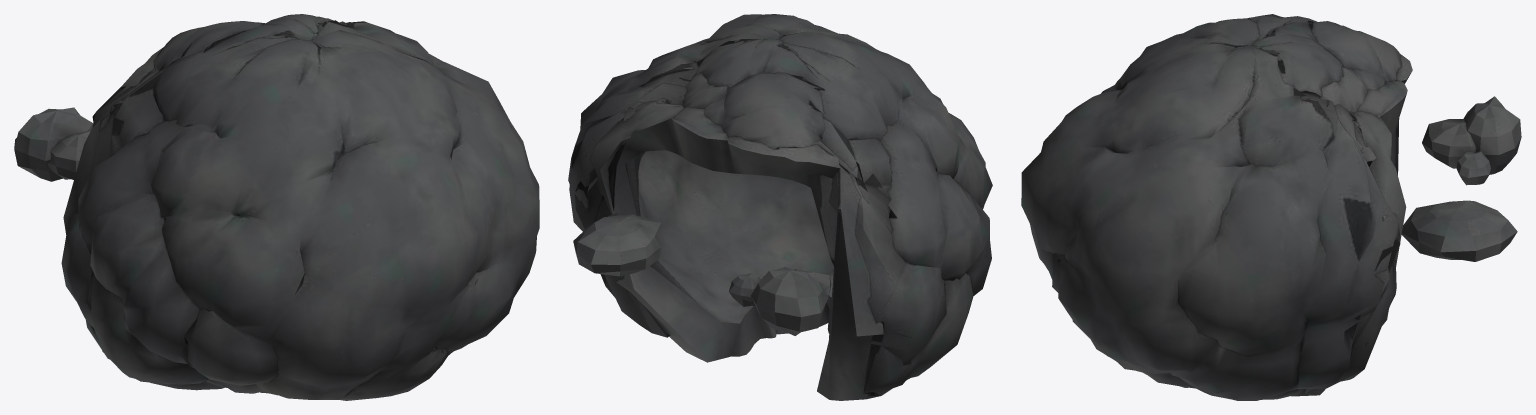
The model's file is miller_cave_den.glb.
The picture shows the model from 3 angles, left to right: view 1: azimuth 30°, elevation 25°; view 2: azimuth 150°, elevation 25°; view 3: azimuth 270°, elevation 25°; orthographic projection. The views are drawn at different scales.
Visible parts, largest first — view 1: miller_cave_den_mesh; view 2: miller_cave_den_mesh; view 3: miller_cave_den_mesh.
Boxes of the visible parts, left/top/right/bottom form: miller_cave_den_mesh: left=14, top=14, right=539, bottom=400; miller_cave_den_mesh: left=568, top=14, right=992, bottom=400; miller_cave_den_mesh: left=1021, top=14, right=1521, bottom=400.
Bounding box in the file's own units: 6.22 × 4.9 × 6.6.
Materials: 1 (1 with a texture image).
